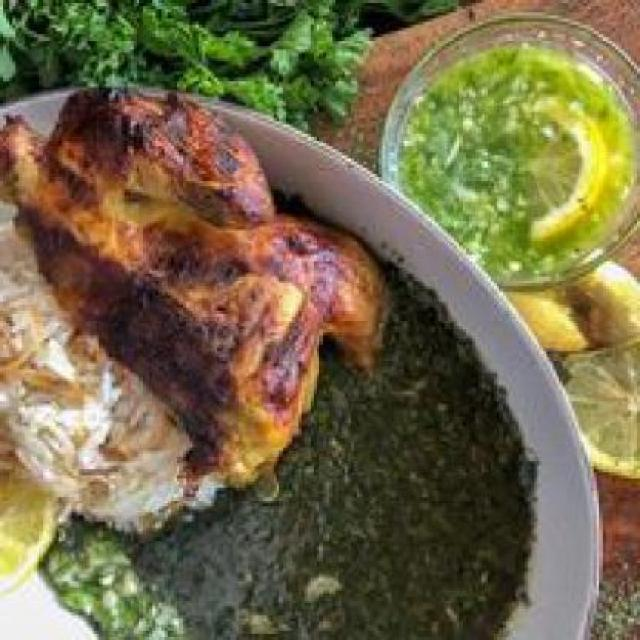fried rice: (3, 208, 180, 550)
molokhia: (47, 258, 547, 638)
